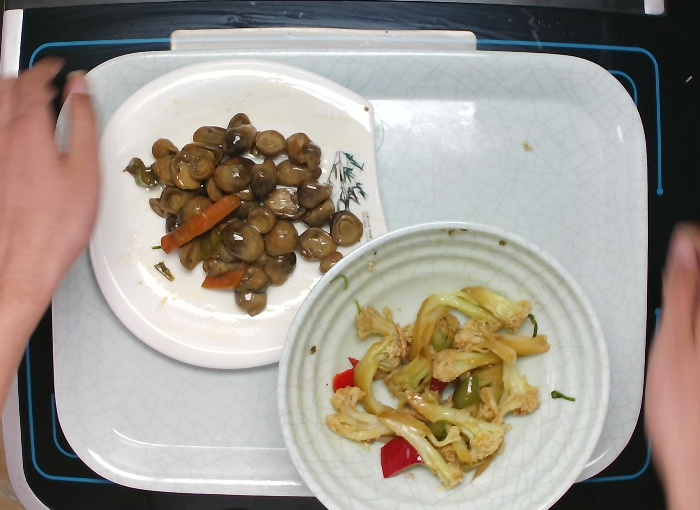JYsf-Da_Tang_Wan: (277, 219, 614, 510)
JYsf-Mian_Pan: (85, 59, 388, 369)
